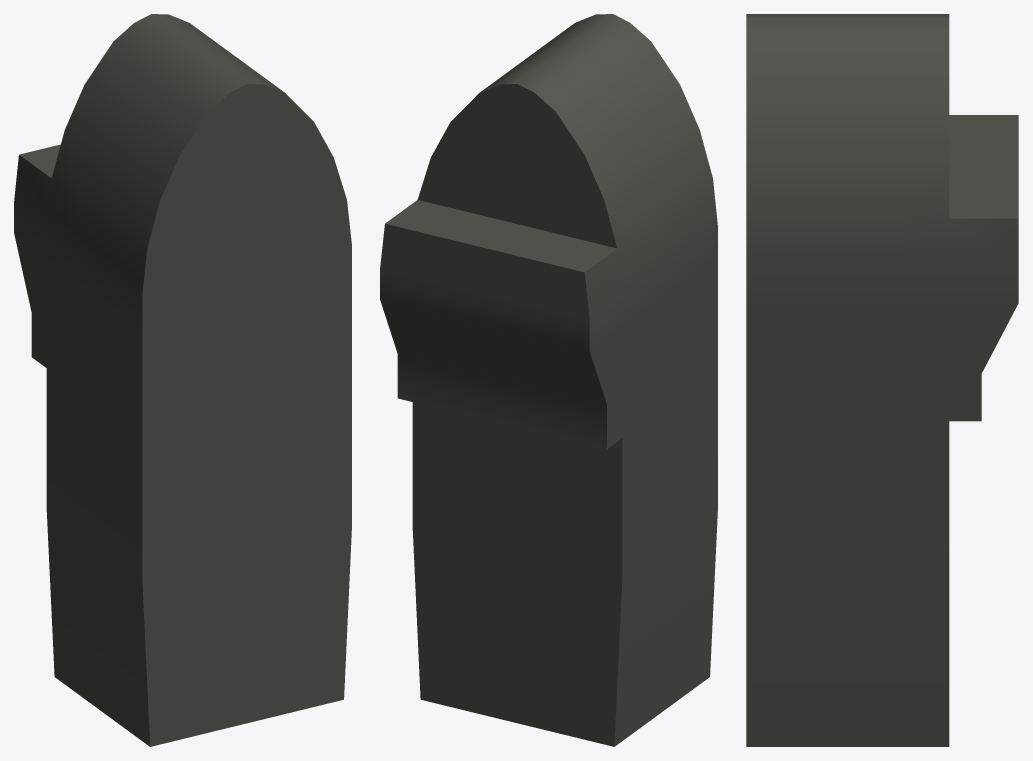
Rendered from BoatMColliderScaled.fbx.
3 renders of one model, left to right at view 1: azimuth 30°, elevation 25°; view 2: azimuth 150°, elevation 25°; view 3: azimuth 270°, elevation 25°, orthographic. The views are drawn at different scales.
Parts seen in each view (by area): view 1: BoatM01ColScaled; view 2: BoatM01ColScaled; view 3: BoatM01ColScaled.
Part boxes in pixels (x1=…): BoatM01ColScaled: x1=14, y1=14, x2=351, y2=746; BoatM01ColScaled: x1=380, y1=14, x2=717, y2=746; BoatM01ColScaled: x1=746, y1=14, x2=1018, y2=746.
Size of the model in its own units: 147353 by 429806 by 156293.
